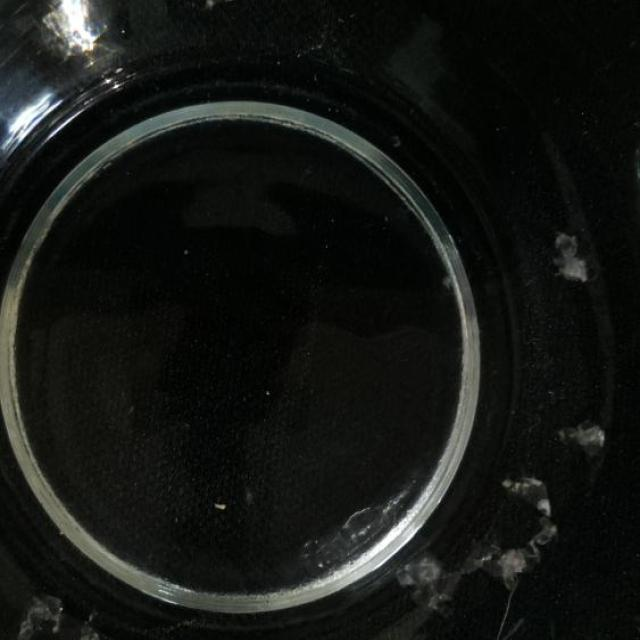fiber: (491, 473, 560, 595), (391, 541, 490, 615), (17, 592, 106, 640), (548, 232, 592, 286), (558, 416, 606, 461), (216, 502, 228, 515)
